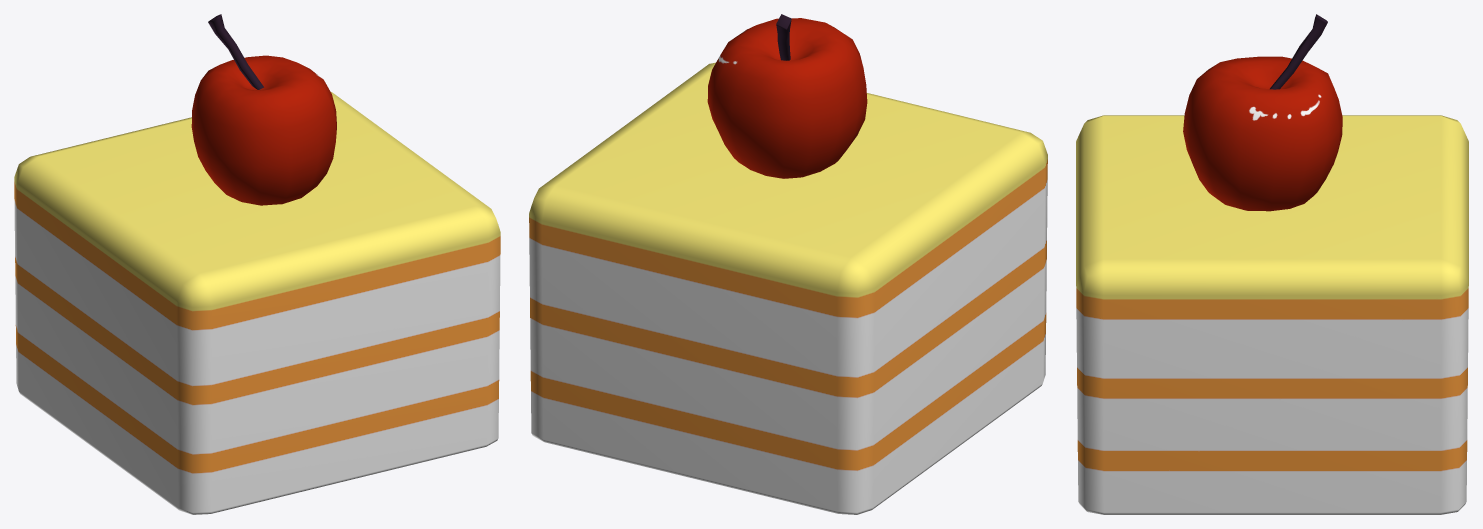
File: CompleteSi.fbx
3 views of the same model, side by side, from view 1: azimuth 30°, elevation 25°; view 2: azimuth 150°, elevation 25°; view 3: azimuth 270°, elevation 25° (orthographic). The views are drawn at different scales.
Visible parts, largest first — view 1: di2, di3; view 2: di2, di3; view 3: di2, di3.
Boxes of the visible parts, x1=… form: di2: x1=14, y1=92, x2=500, y2=514; di3: x1=191, y1=14, x2=336, y2=205; di2: x1=529, y1=62, x2=1047, y2=514; di3: x1=707, y1=14, x2=867, y2=178; di2: x1=1076, y1=115, x2=1468, y2=514; di3: x1=1183, y1=14, x2=1342, y2=211.
Size of the model in its own units: 1.99 by 2.3 by 1.99.
Materials: 1 (1 with a texture image).
